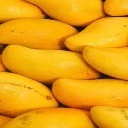mango: (2, 44, 105, 86)
